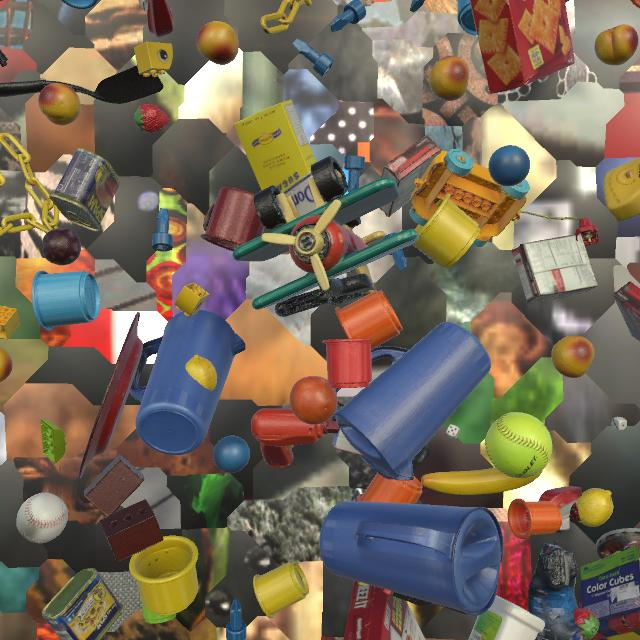ycb_002_master_chef_can: (0, 0, 2, 1)
ycb_003_cracker_box: (470, 0, 575, 94), (343, 580, 425, 640)
ycb_004_sugar_box: (233, 99, 316, 216)
ycb_006_mustard_bottle: (604, 158, 640, 222)
ycb_008_pudding_box: (511, 233, 598, 303), (379, 135, 441, 217), (612, 281, 640, 342), (565, 0, 569, 3)
ycb_010_potted_meat_can: (49, 148, 121, 232), (42, 568, 124, 640)
ycb_011_banana: (421, 467, 543, 495)
ycb_012_strawberry: (134, 104, 170, 133), (573, 608, 599, 640)
ycb_014_lemon: (577, 488, 614, 527), (185, 355, 217, 391), (359, 582, 369, 585)
ycb_015_peach: (196, 21, 239, 65), (551, 335, 595, 378), (595, 24, 639, 66), (38, 83, 81, 125), (429, 56, 469, 101), (0, 346, 13, 382)
ycb_017_orange: (289, 376, 338, 425)
ycb_018_plum: (42, 228, 81, 265)
